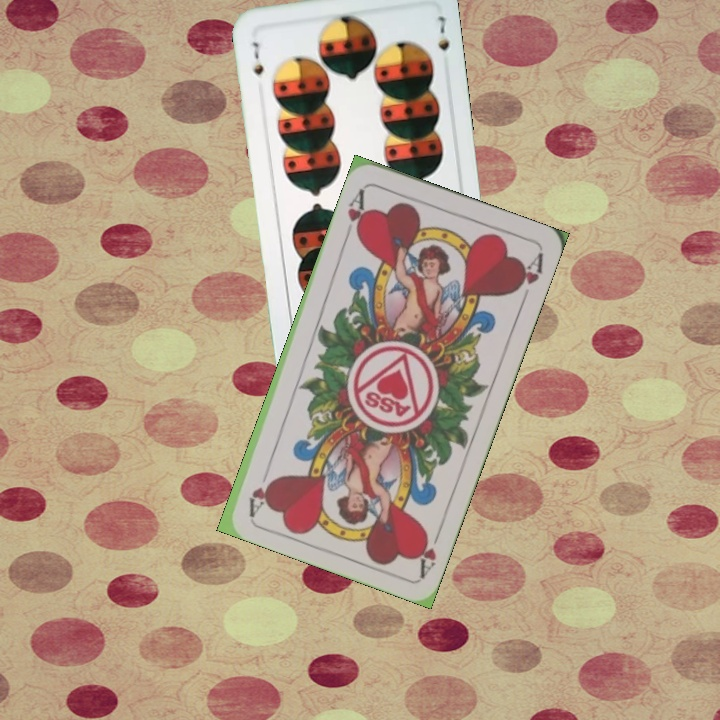HA: (412, 521, 446, 579), (343, 184, 370, 240)
S7: (248, 38, 266, 78)
